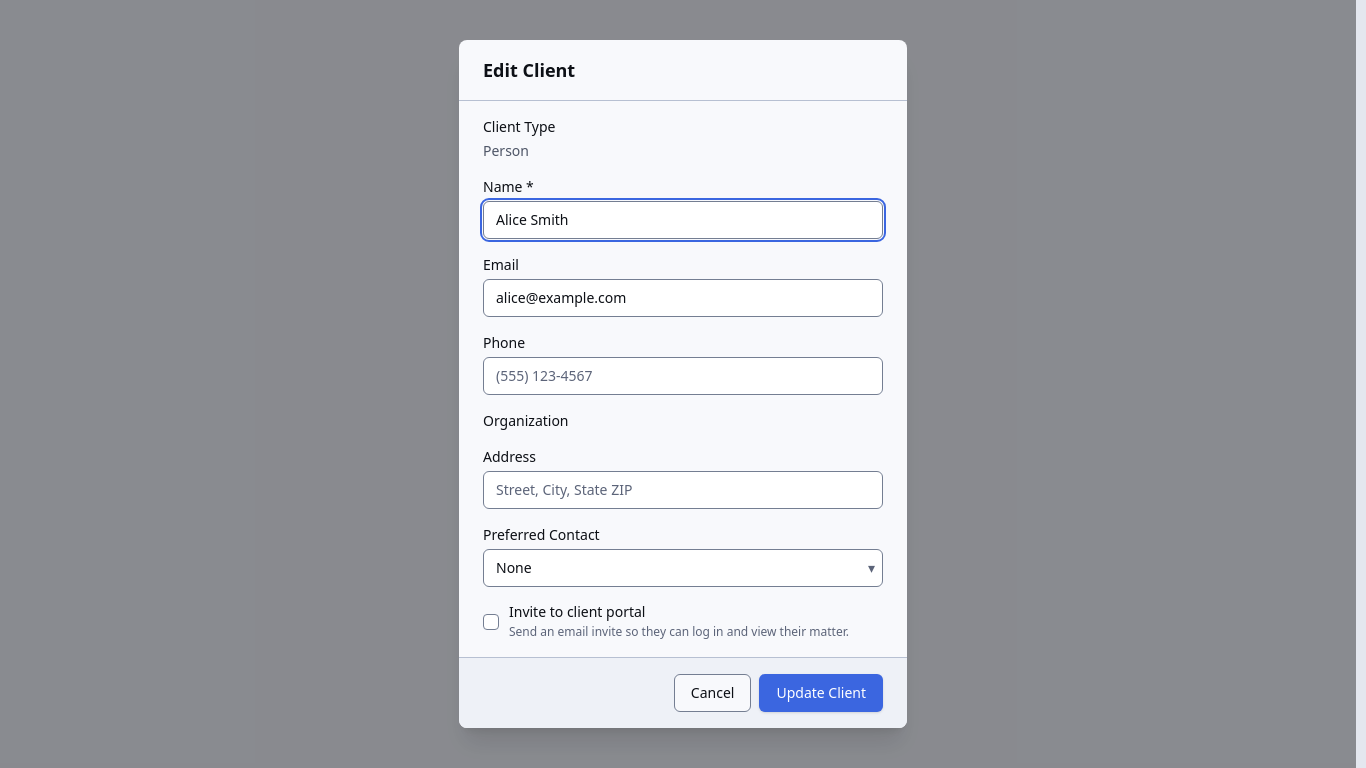
a portal invite that is refused after the profile saved › keeps the dialog open and says the invite was not sent, with the reason
This screenshot has width=1366, height=768.
Click the checkbox labelled "Invite to client portal": x=683, y=622 [483,603,883,641]
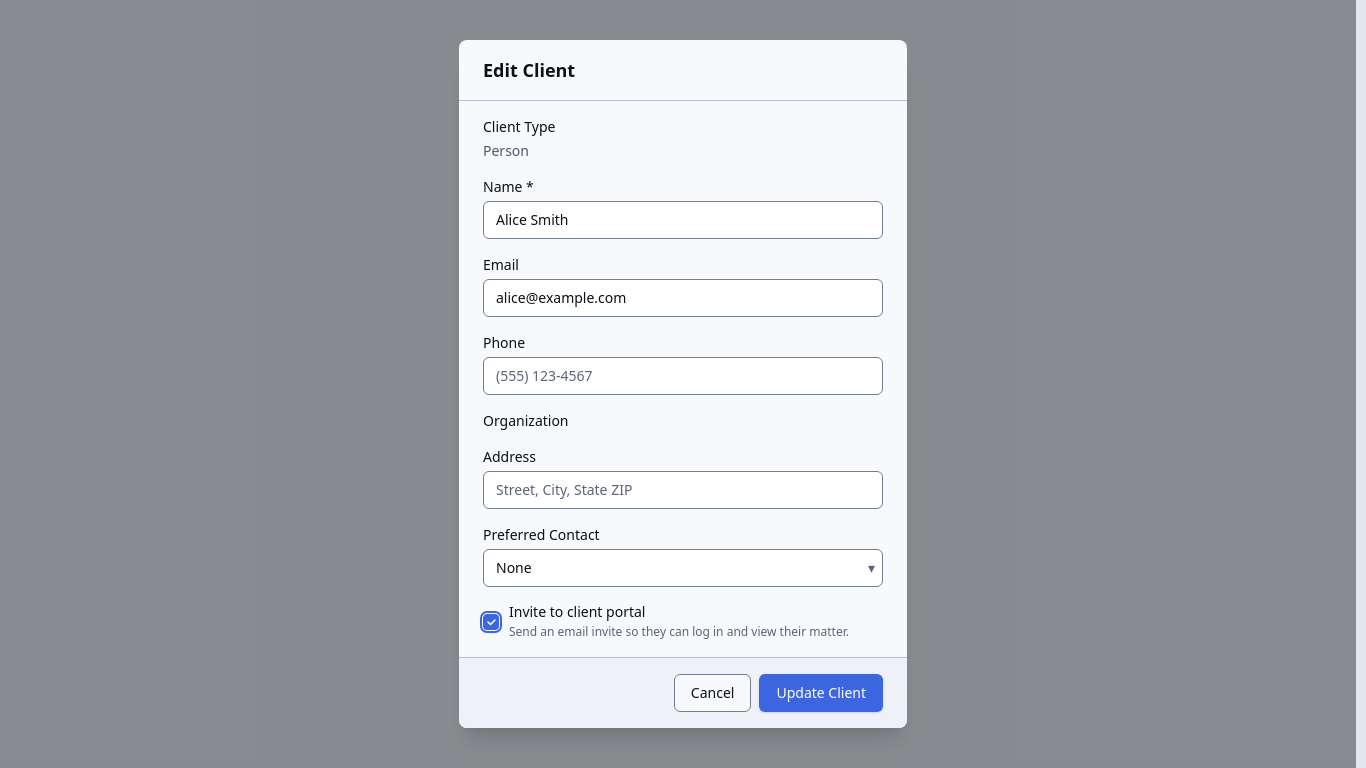
Click the button "Update Client": x=821, y=693 [759,674,883,712]
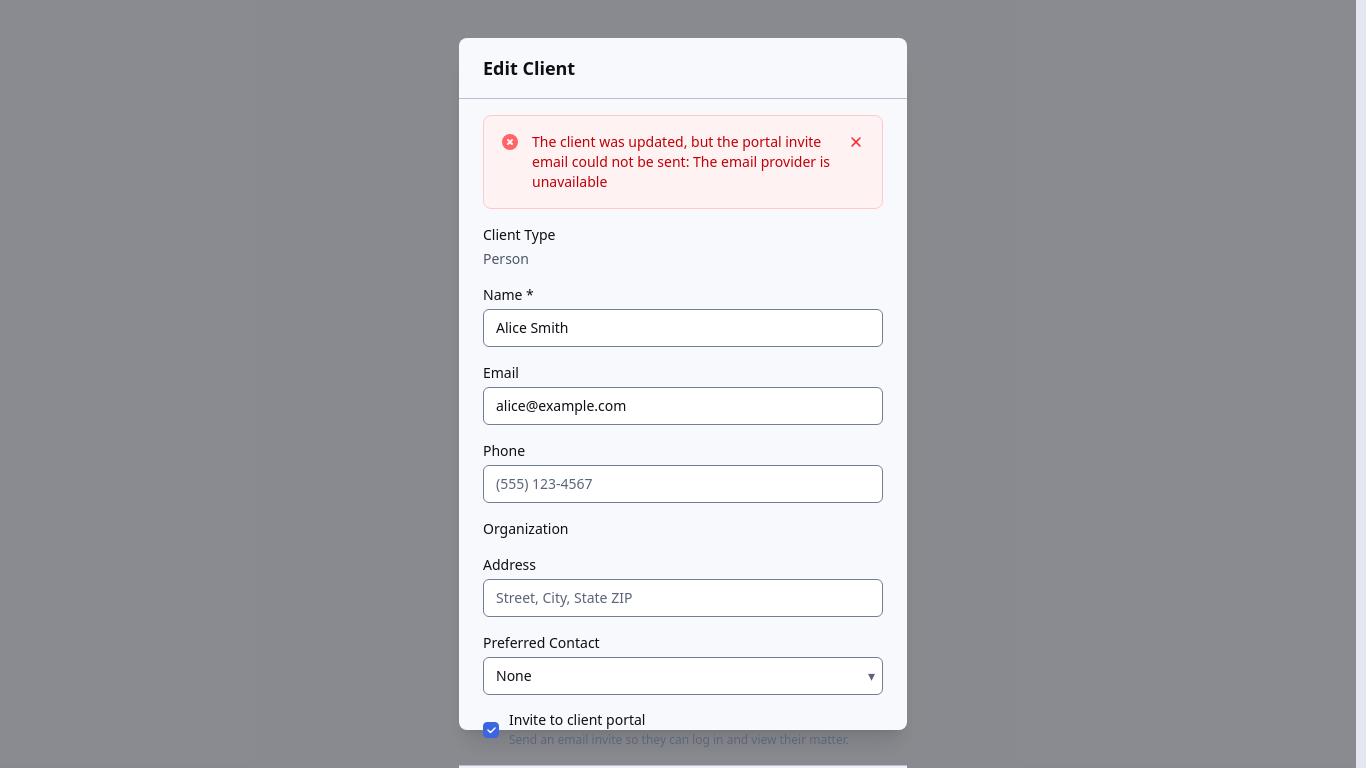
Now the message shows "invite email could not be sent", box [532,132,830,191]
Now the message shows "The email provider is unavailable", box [532,132,830,191]
